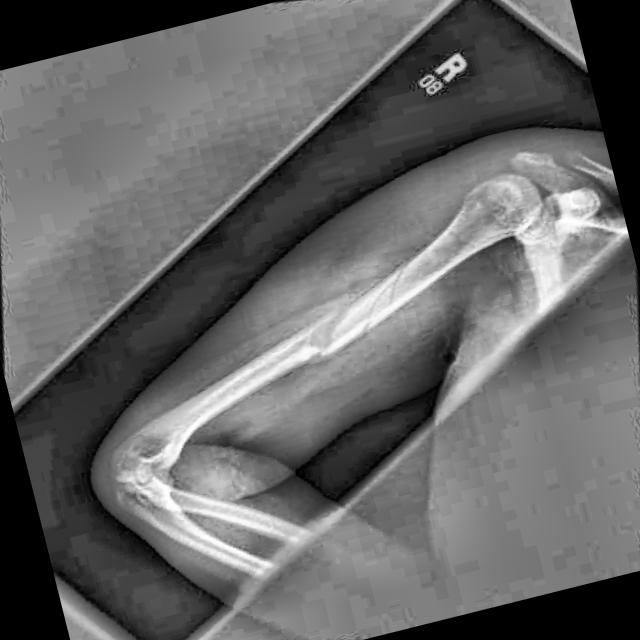humerus: (255, 248, 419, 406)
